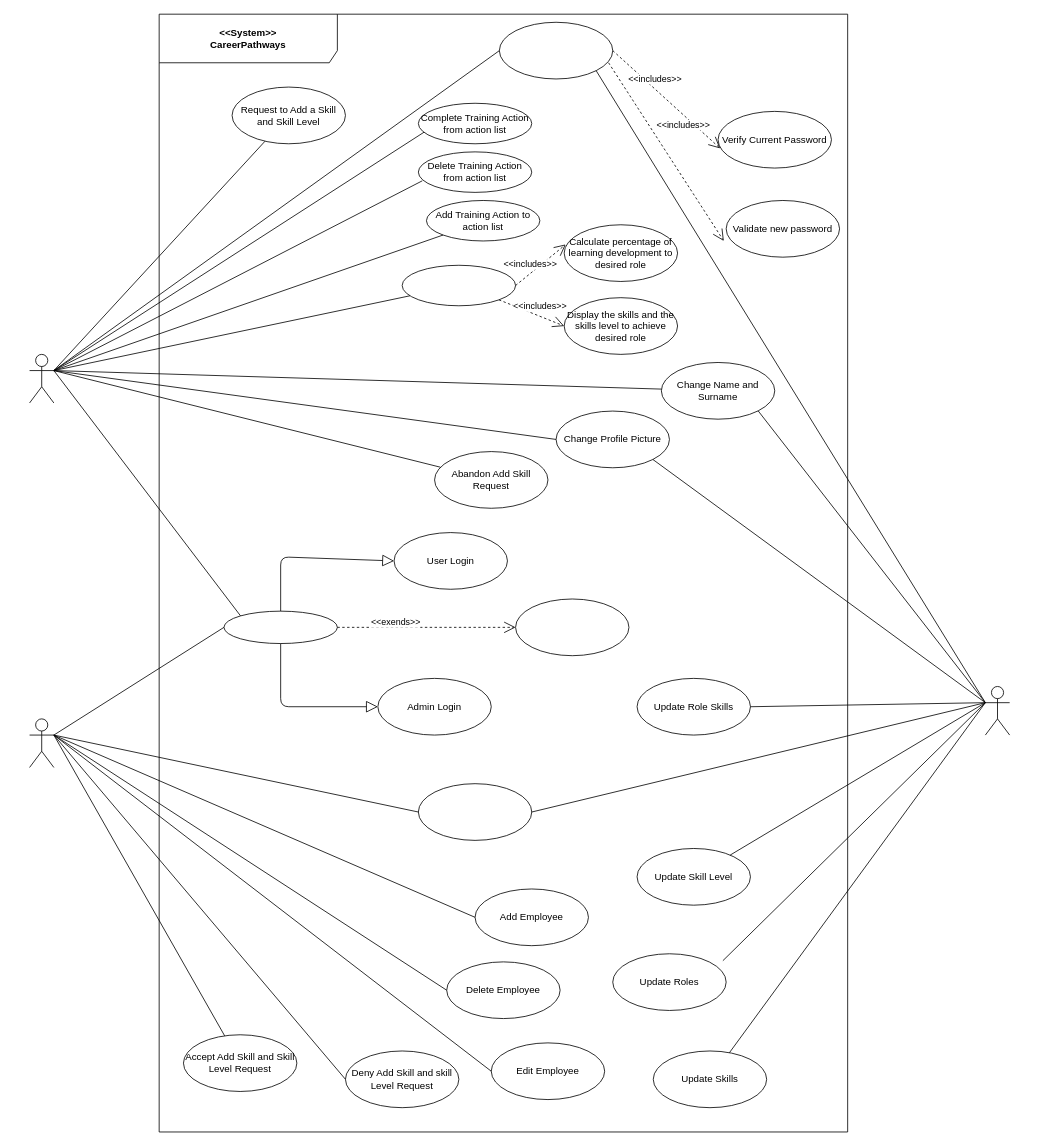
The diagram is 1040 pixels wide and 1146 high, and some of its shapes have lost their labels. The box of each missing label's shape, as (x1, y1, x2, y2) in pixels:
Administrator: (985, 686, 1010, 735)
Change Password: (499, 21, 613, 79)
Display Login error: (515, 598, 629, 656)
Employee: (29, 354, 54, 403)
HR Manager: (29, 718, 54, 767)
Login: (223, 610, 337, 644)
Select Desired Role: (401, 264, 516, 306)
Upload Internal Vacancies: (418, 783, 532, 840)
